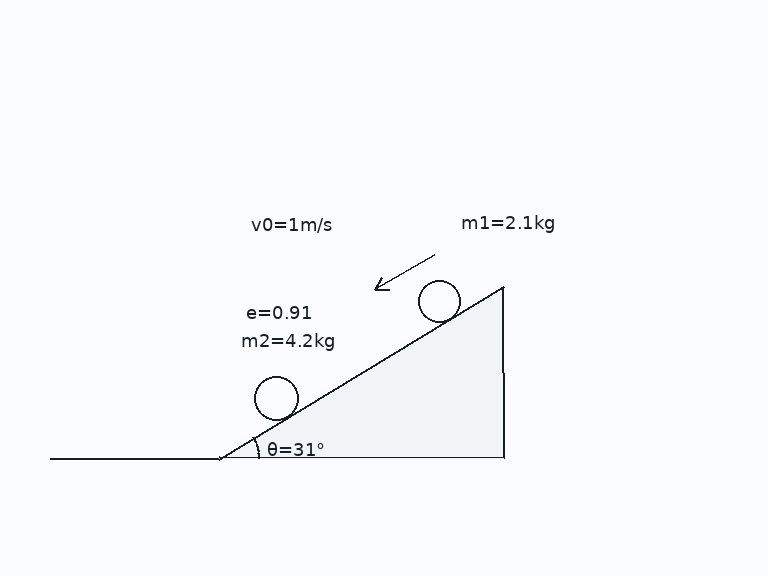ball: (252, 374, 300, 422), (416, 278, 462, 324)
ramp: (217, 286, 505, 460)
